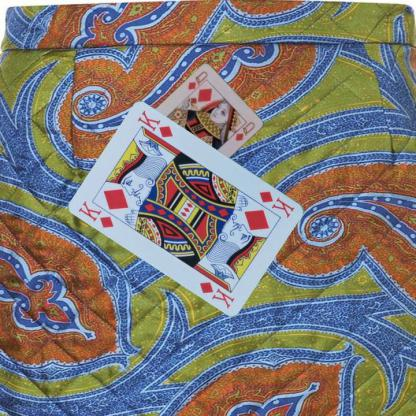Kd: (76, 198, 116, 230), (257, 188, 297, 219)
Qd: (185, 69, 208, 96)
